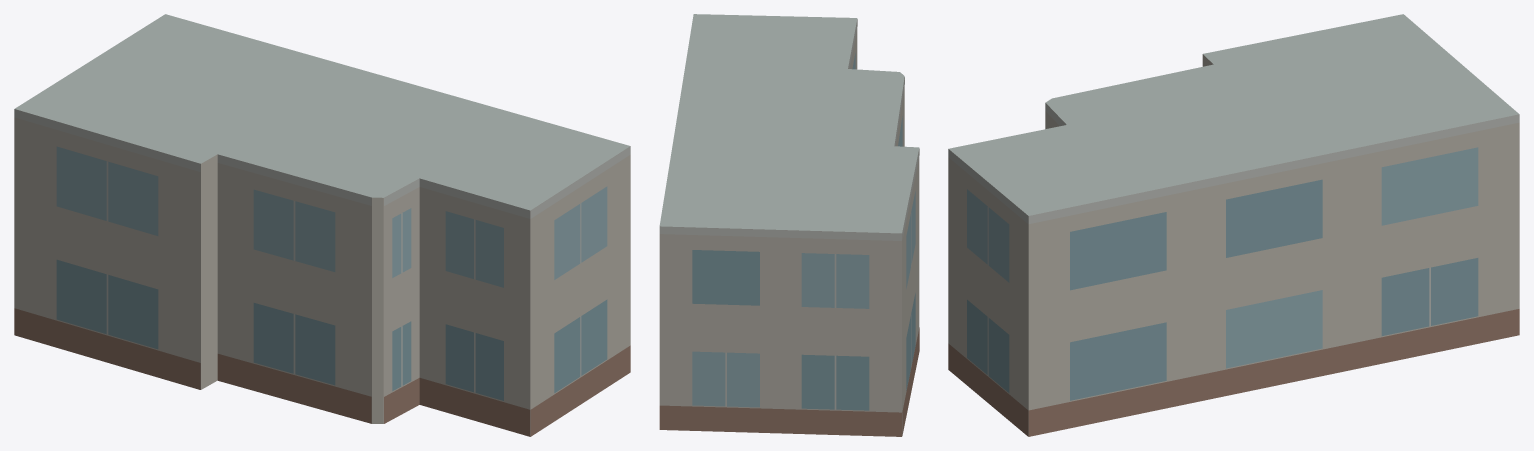
The model's file is survey-upis-32597229.glb.
3 views of the same model, side by side, from view 1: azimuth 30°, elevation 25°; view 2: azimuth 150°, elevation 25°; view 3: azimuth 270°, elevation 25° (orthographic). The views are drawn at different scales.
Visible parts, largest first — view 1: survey-upis-32597229.tmp; view 2: survey-upis-32597229.tmp; view 3: survey-upis-32597229.tmp.
Part boxes in pixels (x1,y1,x2,y2): survey-upis-32597229.tmp: (14,14,630,436); survey-upis-32597229.tmp: (659,14,919,436); survey-upis-32597229.tmp: (948,14,1519,436).
Bounding box in the file's own units: 12.76 × 6.5 × 15.25.
